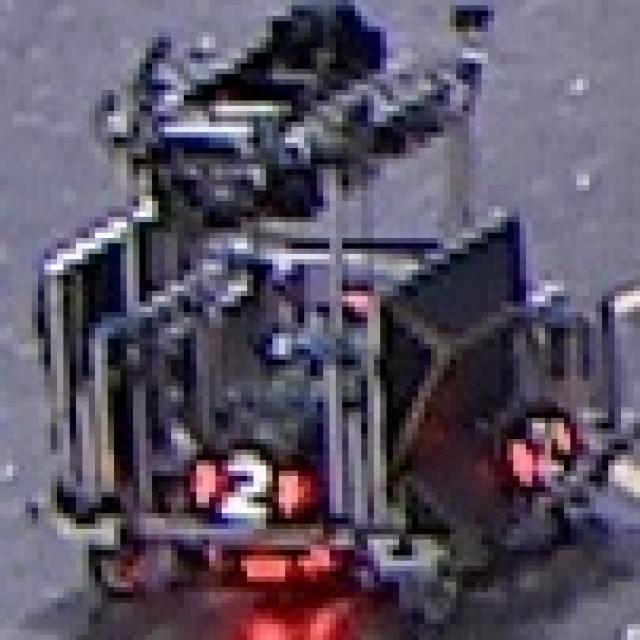R2: (184, 439, 304, 524), (494, 407, 590, 487)
